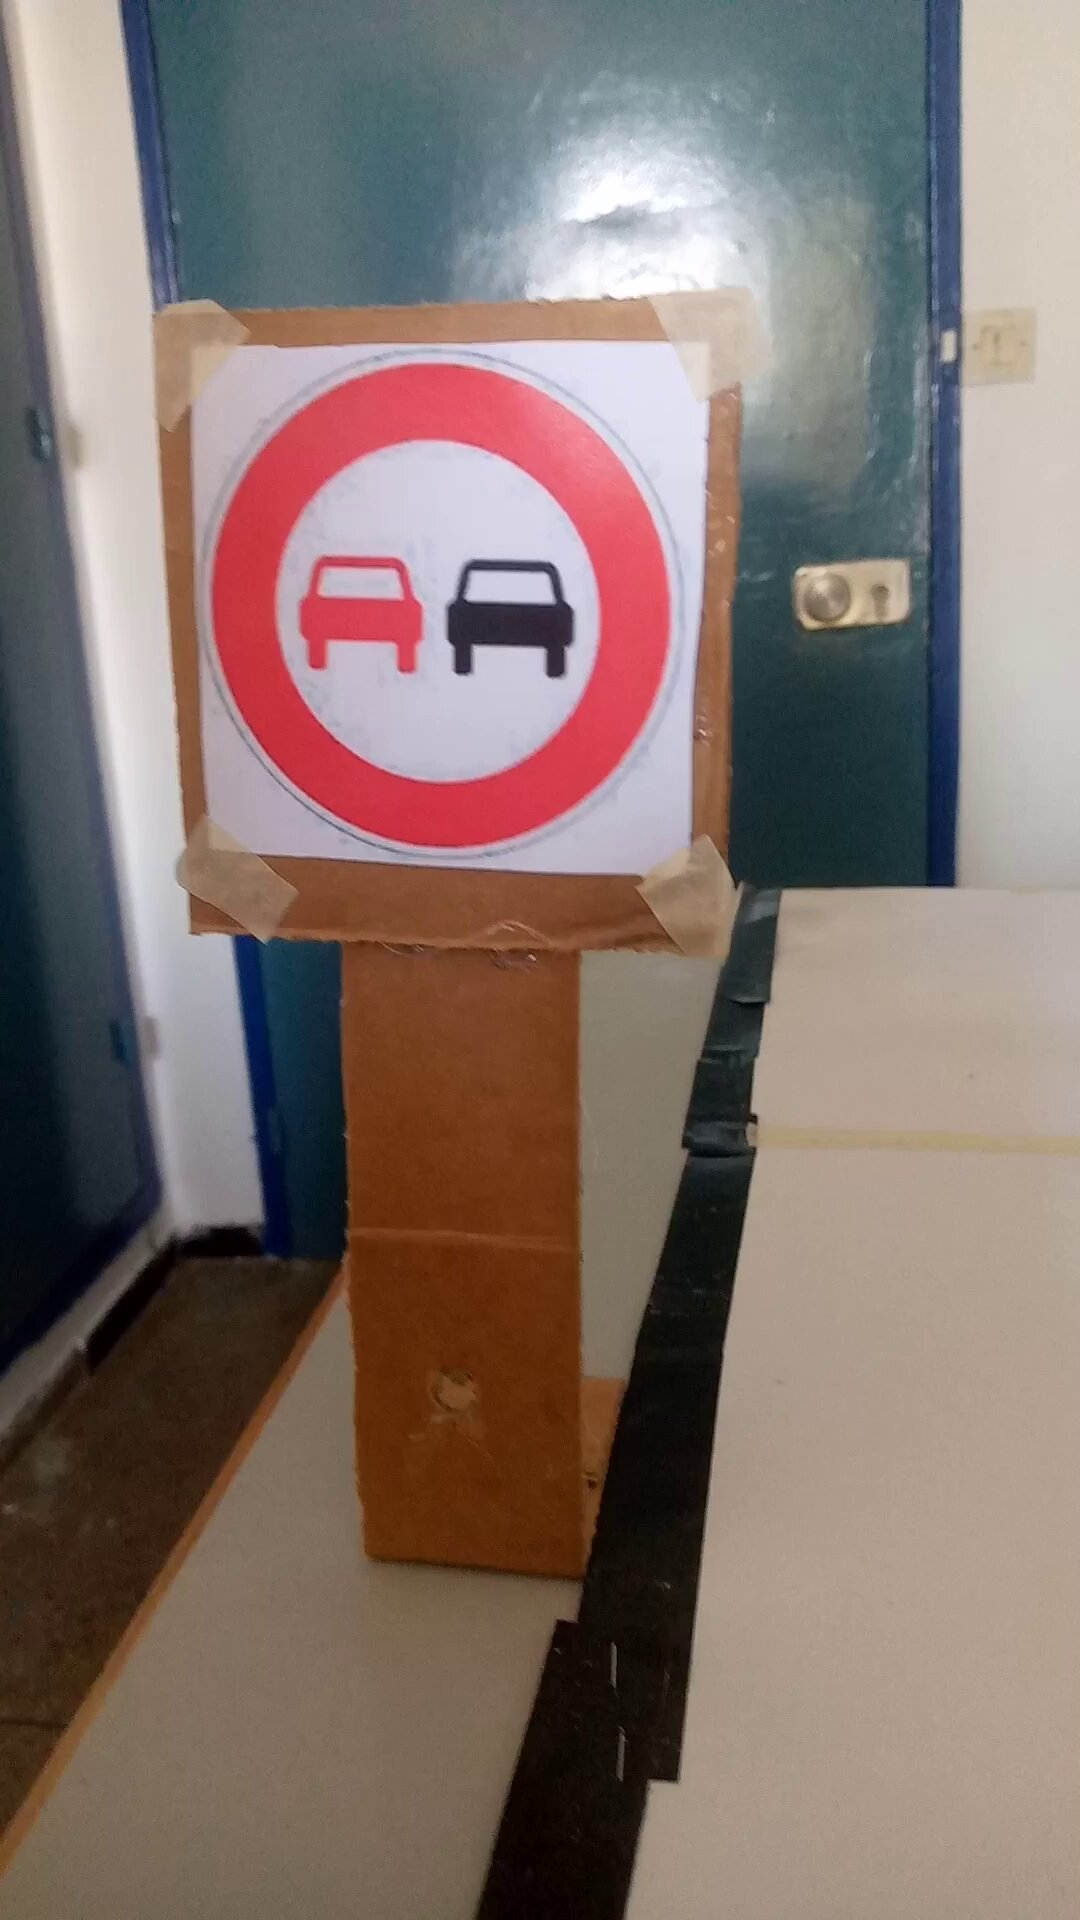panel100: (190, 334, 698, 894)
